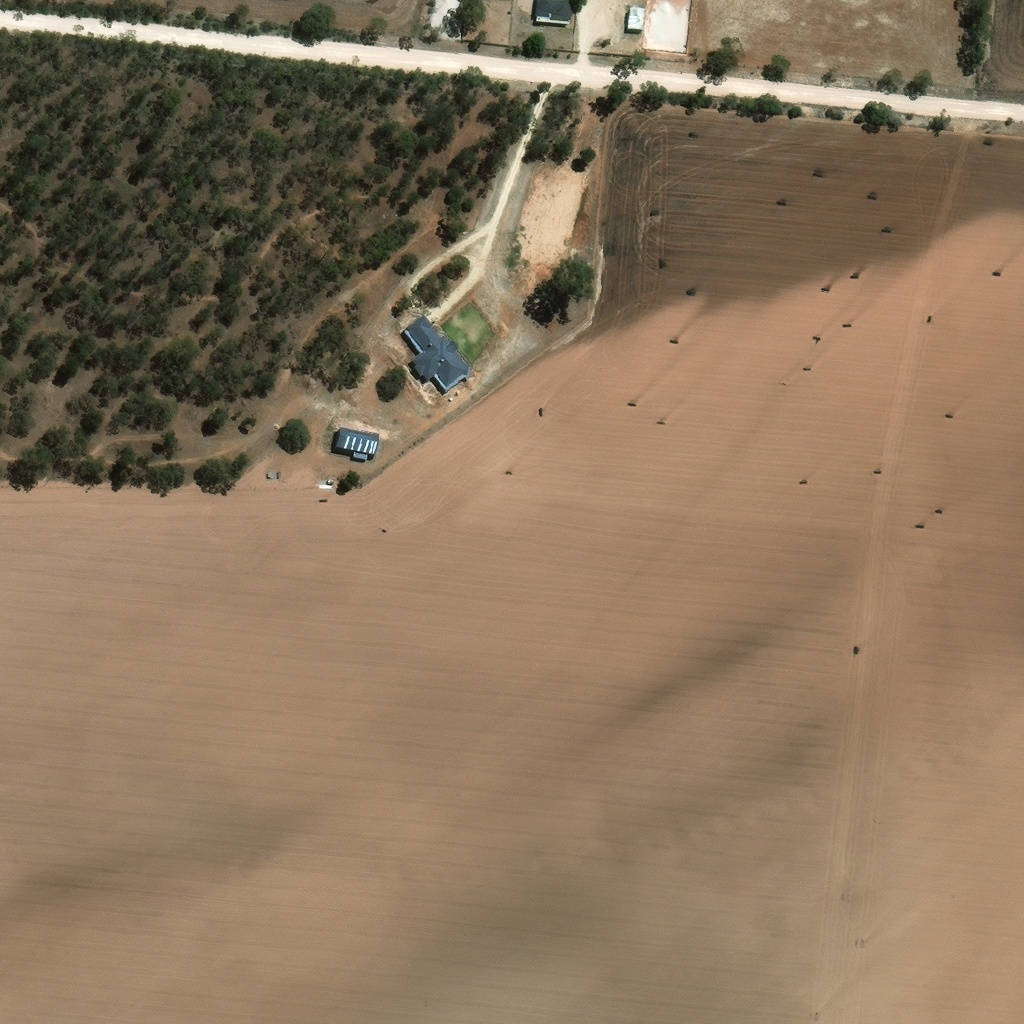0 no-damage: (404, 311, 471, 385), (334, 425, 382, 458), (628, 3, 647, 27)
3 destroyed: (268, 466, 280, 473)
4 un-classified: (510, 230, 562, 282)
